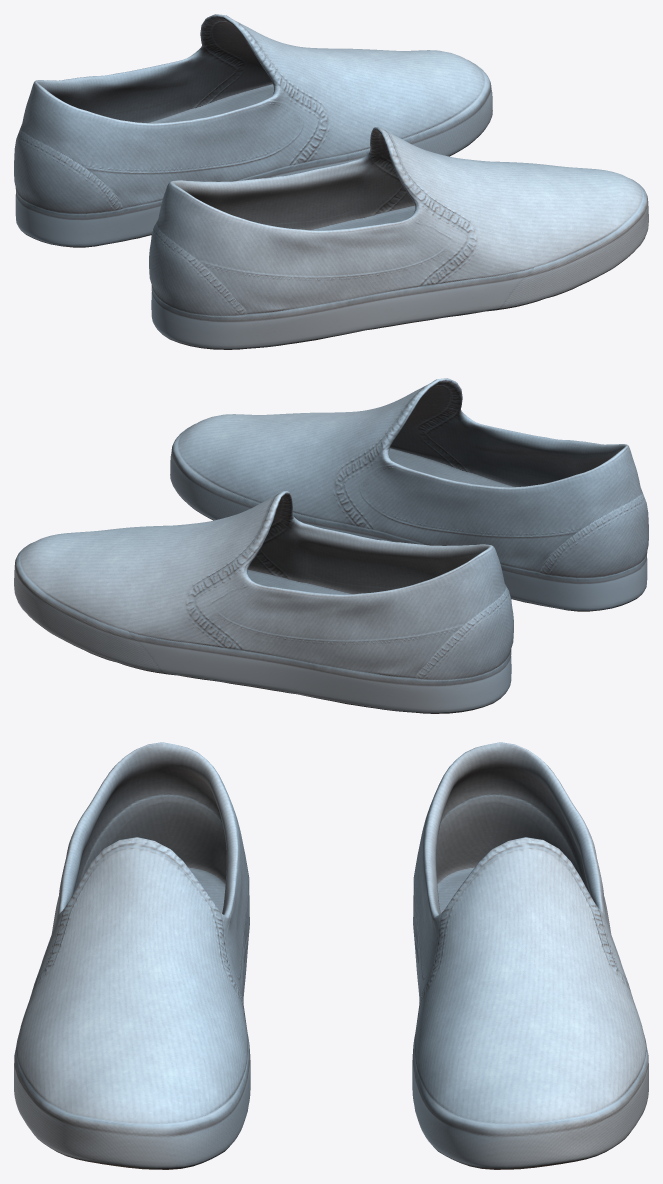
3 views of the same model, one above another, from view 1: azimuth 30°, elevation 25°; view 2: azimuth 150°, elevation 25°; view 3: azimuth 270°, elevation 25° (orthographic). The views are drawn at different scales.
Parts seen in each view (by area): view 1: Boot; view 2: Boot; view 3: Boot.
Part boxes in pixels (x1=…): Boot: x1=14, y1=14, x2=648, y2=349; Boot: x1=14, y1=378, x2=648, y2=713; Boot: x1=14, y1=742, x2=648, y2=1169.
Bounding box in the file's own units: 1.14 × 0.3766 × 1.09.
1 material, 1 textured.
